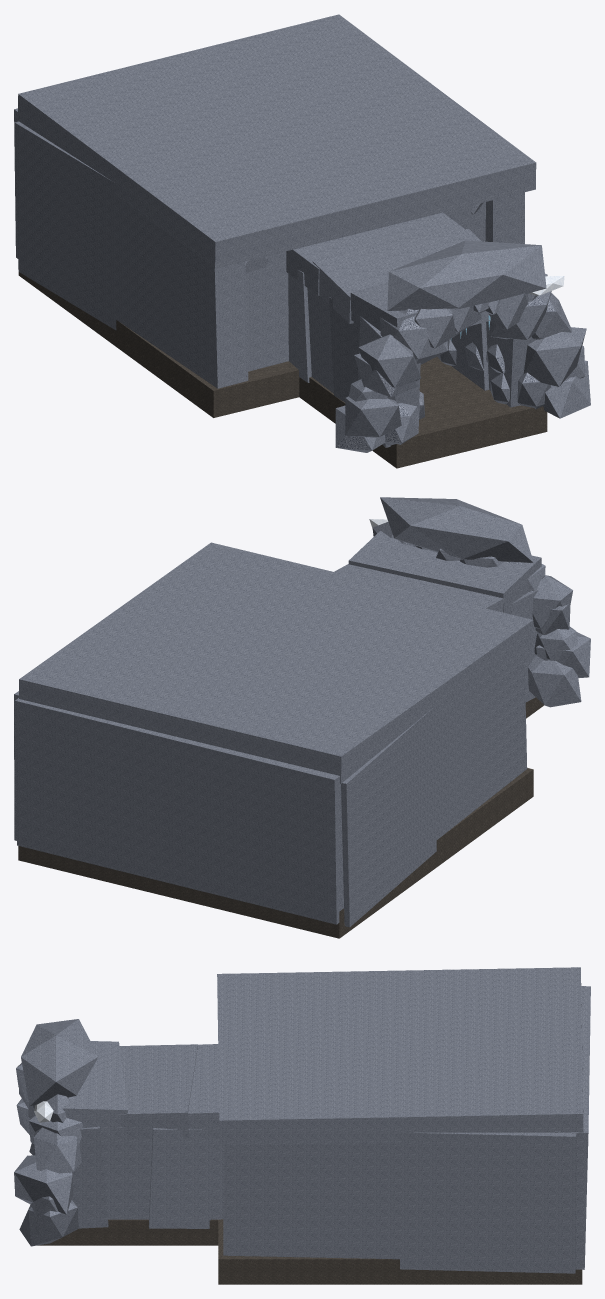
File: cave_den_snow.glb
The picture shows the model from 3 angles, top to bottom: view 1: azimuth 30°, elevation 25°; view 2: azimuth 150°, elevation 25°; view 3: azimuth 270°, elevation 25°; orthographic projection. The views are drawn at different scales.
Parts seen in each view (by area): view 1: Body.003; view 2: Body.003; view 3: Body.003.
Part boxes in pixels (x1=…): Body.003: x1=14, y1=14, x2=590, y2=468; Body.003: x1=14, y1=497, x2=590, y2=938; Body.003: x1=14, y1=967, x2=590, y2=1284.
Size of the model in its own units: 12.91 by 6.94 by 20.62.
Materials: 5 (4 with a texture image).
